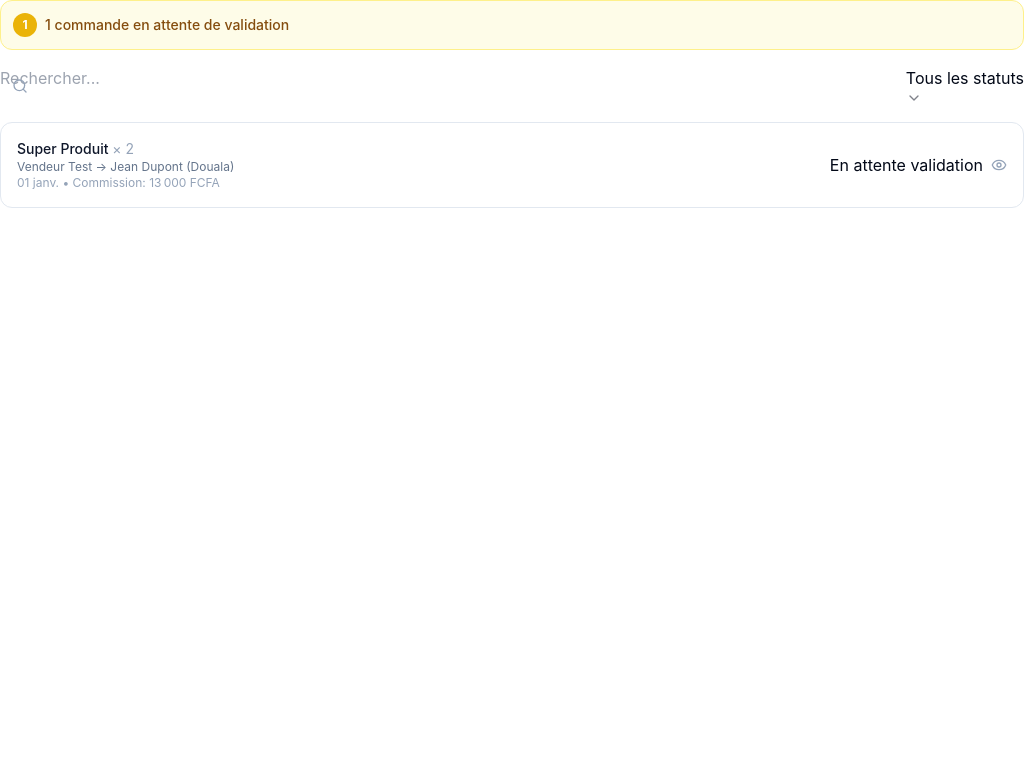
CommandesVendeurs — récapitulatif livraison dans le détail › affiche le badge 'Livraison incluse' et le libellé correspondant
Click the text "Super Produit × 2": {"x": 75, "y": 148} x1=17 y1=140 x2=134 y2=157
(page scrolled)
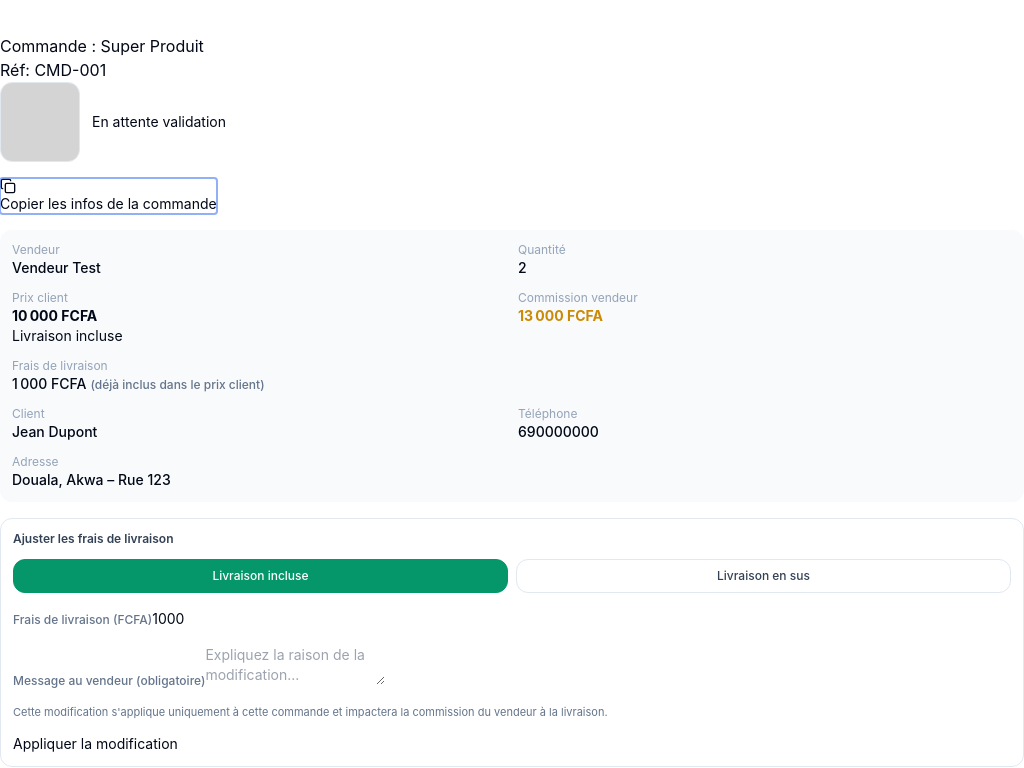
Expected: the text "Livraison incluse" is shown, x1=12 y1=327 x2=123 y2=344
Expected: the text "Frais de livraison" is shown, x1=12 y1=358 x2=108 y2=373
Expected: the text "(déjà inclus dans le prix client)" is shown, x1=90 y1=377 x2=265 y2=392
